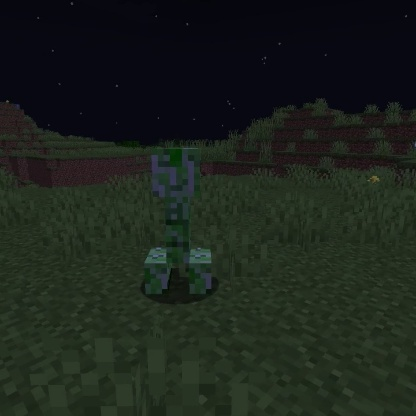creeper: (138, 143, 218, 299)
